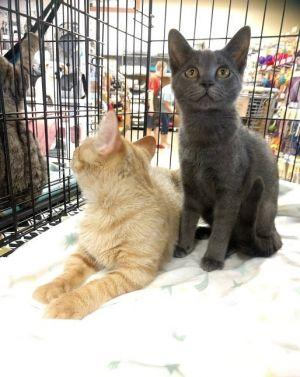rblue: (150, 16, 268, 141)
